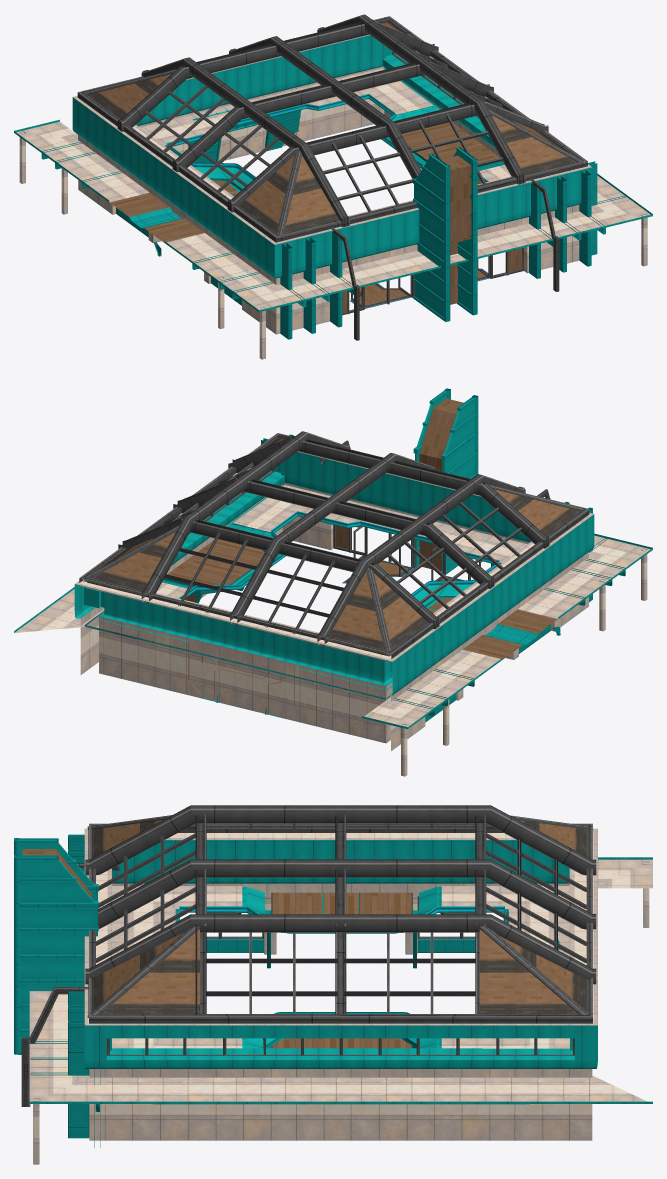
File: ScienceBuilding_Auditorium.fbx
3 renders of one model, top to bottom at view 1: azimuth 30°, elevation 25°; view 2: azimuth 150°, elevation 25°; view 3: azimuth 270°, elevation 25°, orthographic. The views are drawn at different scales.
Parts seen in each view (by area): view 1: ScienceBuilding_Auditorium; view 2: ScienceBuilding_Auditorium; view 3: ScienceBuilding_Auditorium.
Part boxes in pixels (bbox=[...]): ScienceBuilding_Auditorium: bbox=[14, 14, 652, 359]; ScienceBuilding_Auditorium: bbox=[14, 388, 652, 776]; ScienceBuilding_Auditorium: bbox=[14, 805, 652, 1164].
Bounding box in the file's own units: 4461 × 1665 × 4883.
